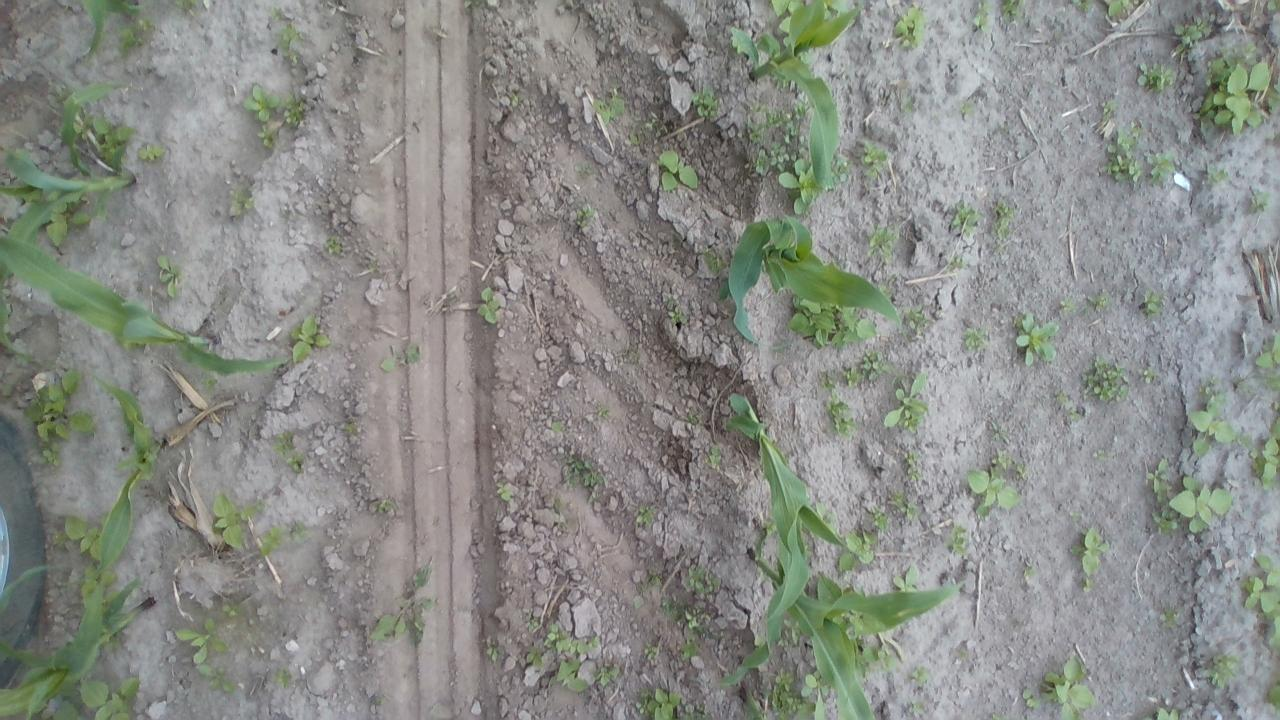Maize: (714, 538, 969, 720), (0, 229, 291, 374), (2, 78, 139, 362), (63, 362, 168, 677), (723, 389, 862, 620), (729, 0, 862, 204), (0, 563, 160, 720), (732, 209, 901, 345), (75, 0, 136, 66), (813, 690, 827, 720)
Weeds: (1199, 41, 1271, 136), (26, 368, 96, 446), (788, 297, 881, 348), (746, 102, 807, 172), (1171, 474, 1233, 534), (1042, 652, 1096, 720), (1246, 552, 1280, 651), (174, 617, 228, 670), (211, 494, 260, 552), (966, 468, 1022, 517), (1014, 313, 1059, 372), (885, 374, 928, 434), (370, 598, 426, 644), (835, 526, 888, 574), (777, 158, 820, 216), (78, 678, 140, 718), (1190, 391, 1228, 456), (1236, 430, 1280, 486), (1081, 356, 1132, 404), (290, 314, 332, 369), (1100, 124, 1140, 180), (557, 451, 603, 497), (1072, 529, 1114, 577), (543, 622, 601, 656), (659, 149, 703, 192), (771, 664, 808, 714), (60, 516, 92, 570), (1136, 58, 1177, 99), (894, 6, 932, 50), (90, 114, 134, 151), (46, 205, 88, 243), (859, 144, 896, 184), (1205, 647, 1240, 688), (949, 199, 988, 235), (243, 86, 284, 120), (638, 686, 680, 719), (118, 18, 154, 55), (1146, 456, 1172, 506), (403, 562, 438, 598), (157, 255, 185, 300), (861, 640, 897, 675), (476, 286, 506, 326), (557, 658, 592, 692), (684, 566, 726, 594), (78, 566, 122, 592), (199, 664, 236, 694), (866, 223, 899, 256), (382, 344, 418, 374), (887, 487, 920, 519), (828, 397, 858, 432), (259, 523, 288, 558), (282, 99, 308, 138), (859, 352, 892, 380), (1146, 148, 1176, 178), (964, 326, 994, 356), (1154, 509, 1186, 537), (693, 85, 722, 115), (994, 198, 1017, 235), (594, 92, 622, 122), (904, 448, 924, 489), (892, 562, 921, 590), (798, 670, 831, 694), (1259, 332, 1280, 368), (1172, 23, 1202, 48), (820, 370, 844, 401), (272, 428, 294, 460), (840, 612, 869, 636), (951, 523, 972, 556), (1056, 389, 1078, 420), (40, 700, 74, 720), (34, 446, 59, 472), (228, 192, 254, 216), (598, 660, 624, 684), (1246, 188, 1270, 214), (1090, 288, 1112, 316), (1160, 608, 1186, 631), (706, 247, 726, 276), (683, 606, 709, 628), (280, 28, 308, 48), (990, 418, 1014, 441), (636, 504, 661, 526), (1102, 0, 1132, 18), (910, 663, 930, 690), (256, 124, 280, 146), (908, 700, 934, 720), (286, 520, 308, 543), (678, 639, 702, 660), (998, 0, 1026, 18), (869, 505, 888, 530), (668, 302, 684, 330), (975, 0, 991, 28), (266, 8, 292, 25), (962, 100, 982, 122), (524, 646, 546, 666), (138, 144, 169, 158), (288, 451, 308, 472), (496, 482, 516, 503), (1267, 680, 1280, 712), (343, 414, 366, 432), (844, 367, 862, 390), (1268, 402, 1280, 436), (223, 604, 248, 620), (372, 495, 397, 511), (710, 445, 726, 470), (1143, 710, 1182, 720), (1136, 368, 1160, 384), (661, 594, 680, 614), (1211, 168, 1230, 188), (771, 0, 800, 13), (992, 450, 1012, 468), (275, 669, 297, 685), (326, 240, 348, 256), (1145, 288, 1161, 310), (1198, 374, 1216, 392), (524, 613, 540, 633), (594, 404, 612, 421), (1022, 688, 1038, 707), (1270, 76, 1280, 106), (201, 376, 222, 390), (550, 418, 569, 433), (905, 312, 925, 326), (573, 162, 590, 178), (578, 204, 596, 219), (1099, 99, 1117, 114), (628, 127, 642, 146), (1022, 560, 1038, 576), (682, 409, 698, 425), (484, 647, 500, 663), (176, 0, 198, 11), (1073, 1, 1093, 13), (777, 632, 791, 649), (1094, 448, 1108, 463), (949, 258, 966, 270), (283, 48, 299, 60), (1269, 374, 1280, 391), (1058, 300, 1076, 310), (778, 17, 789, 32), (824, 0, 840, 10), (644, 646, 656, 658), (1082, 578, 1092, 592), (1266, 0, 1280, 10), (992, 712, 1008, 720), (512, 96, 520, 106)
